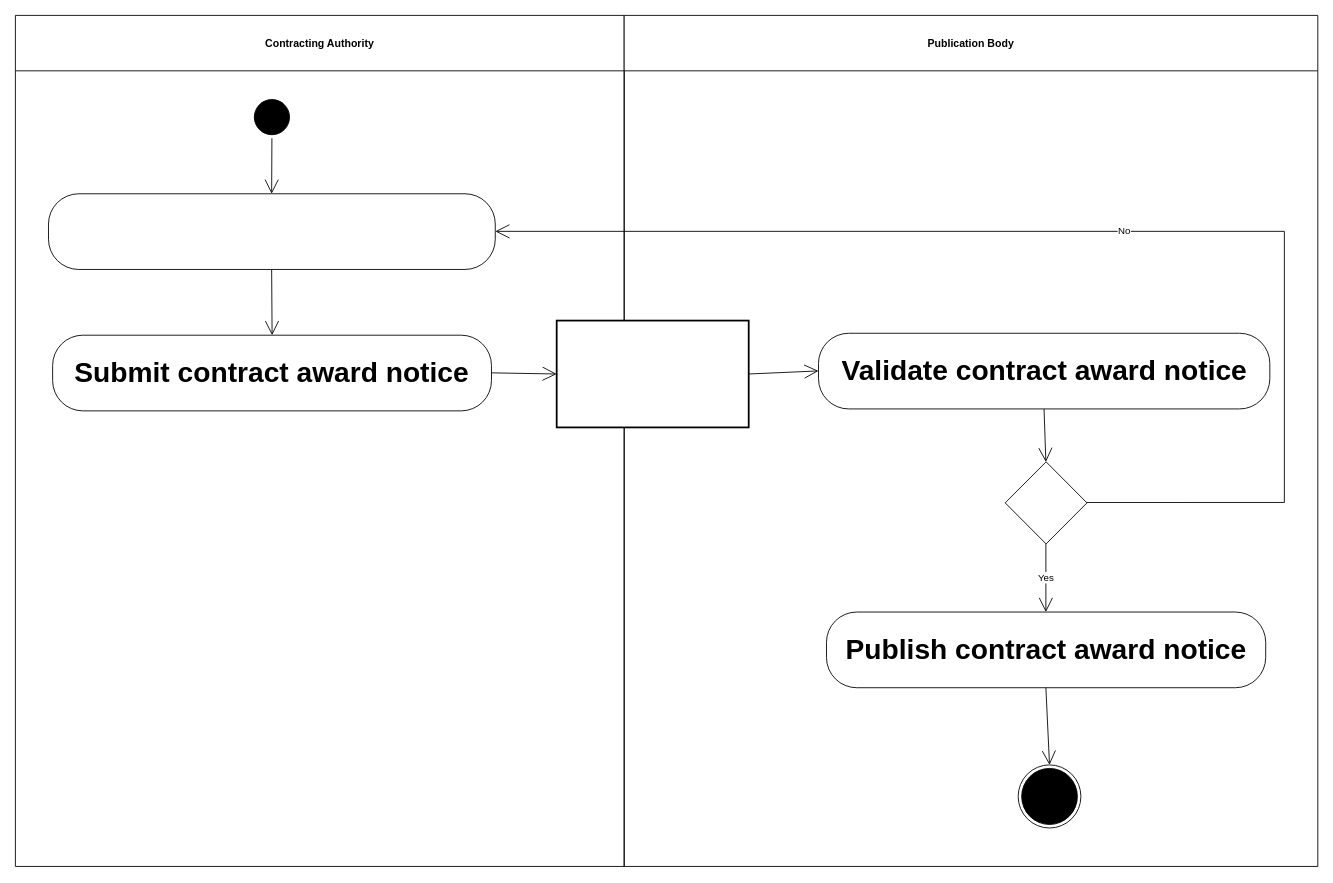
Image size: 1333x883. Some labels were removed from this diagram. Here are the shapes that lost their labels. From the top down, the centre of each, then its label:
At (x=271, y=231): "Prepare contract award notice".
At (x=652, y=373): "Contract Award Notice".
At (x=1045, y=502): "OK?".
